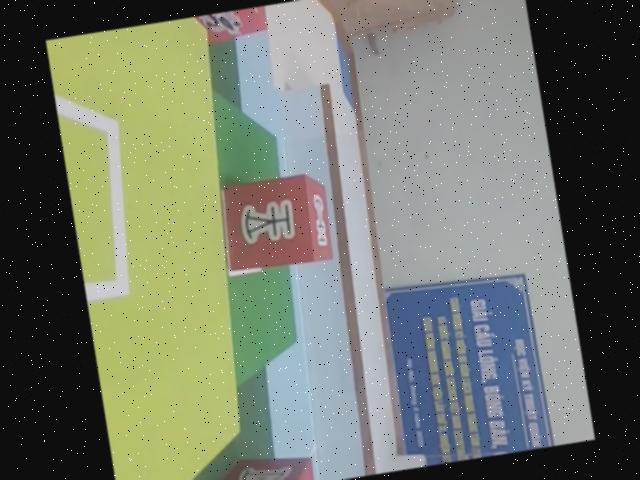R1: (159, 5, 276, 53)
R2 Real: (208, 164, 339, 279), (181, 448, 321, 480)
